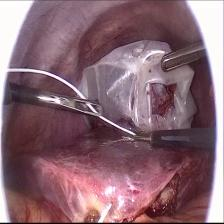Grasper: (160, 37, 211, 75), (42, 94, 104, 122), (115, 119, 152, 146)
Specimen Bag: (76, 38, 202, 137)
